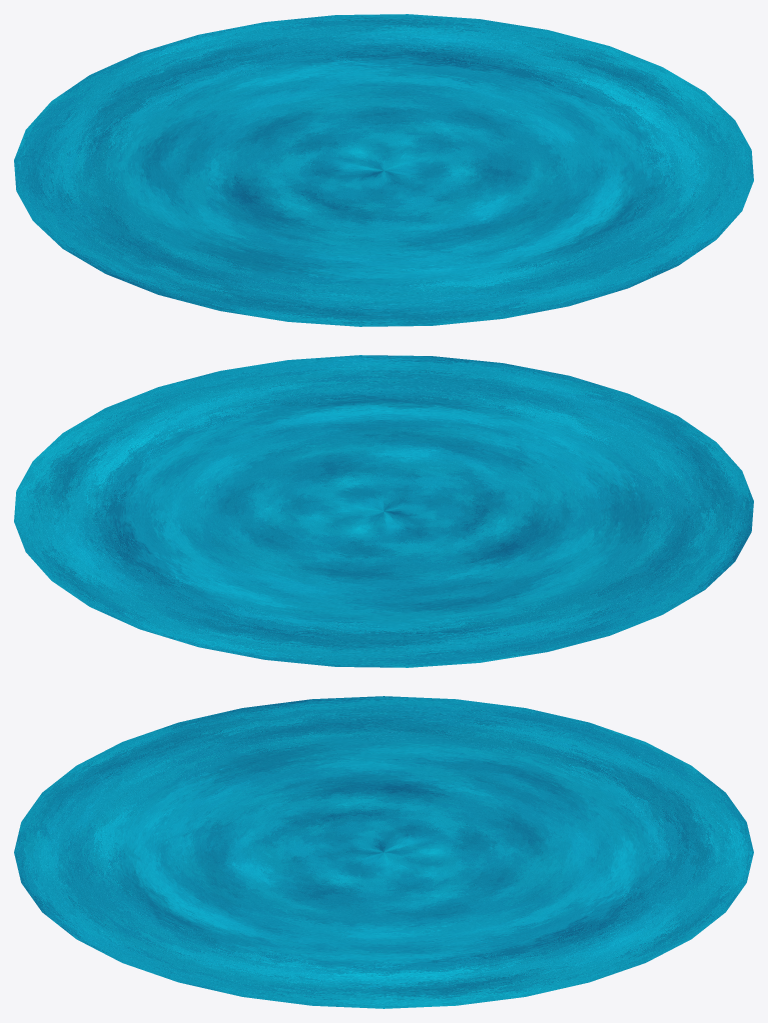
The model's file is Water_Circle_2_Midpoly.fbx.
The picture shows the model from 3 angles, top to bottom: view 1: azimuth 30°, elevation 25°; view 2: azimuth 150°, elevation 25°; view 3: azimuth 270°, elevation 25°; orthographic projection.
Visible parts, largest first — view 1: Water_Circle_2_Midpoly; view 2: Water_Circle_2_Midpoly; view 3: Water_Circle_2_Midpoly.
Part boxes in pixels (x1,y1,x2,y2): Water_Circle_2_Midpoly: (14, 14, 753, 326); Water_Circle_2_Midpoly: (14, 355, 753, 667); Water_Circle_2_Midpoly: (14, 696, 753, 1008).
Bounding box in the file's own units: 4080 × 1.3e-05 × 4080.
